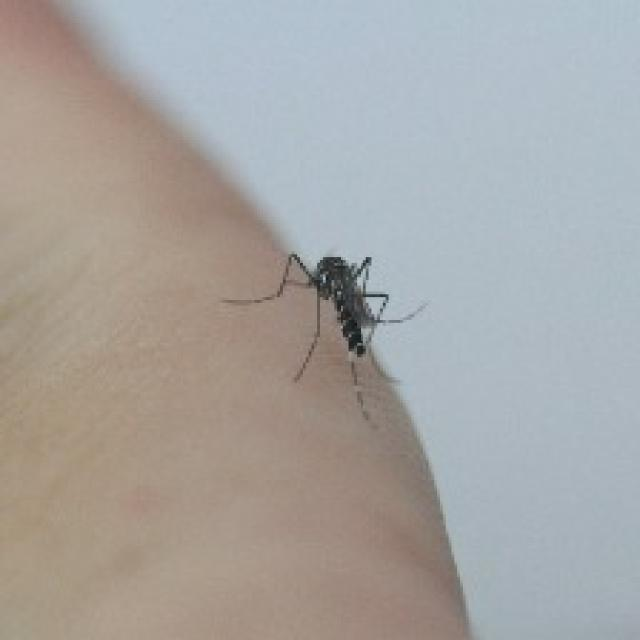aedes: (217, 245, 429, 426)
